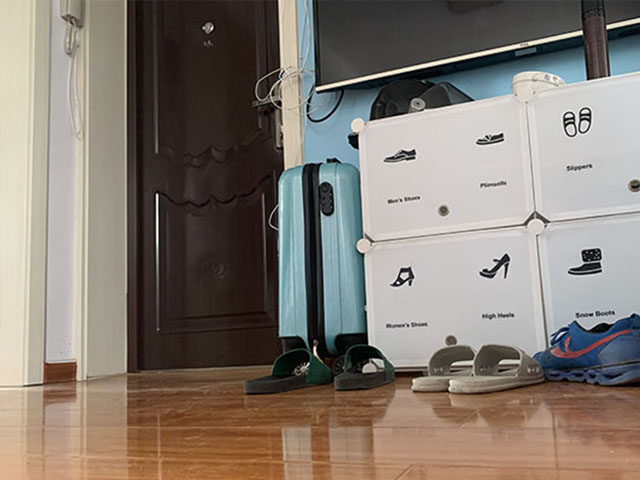slippers: (444, 340, 547, 396), (242, 348, 330, 397), (408, 340, 472, 393), (331, 344, 396, 396)
